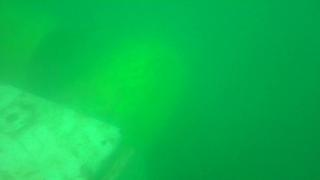pipe: (36, 14, 201, 163), (1, 1, 87, 89)
station: (1, 84, 144, 180)
